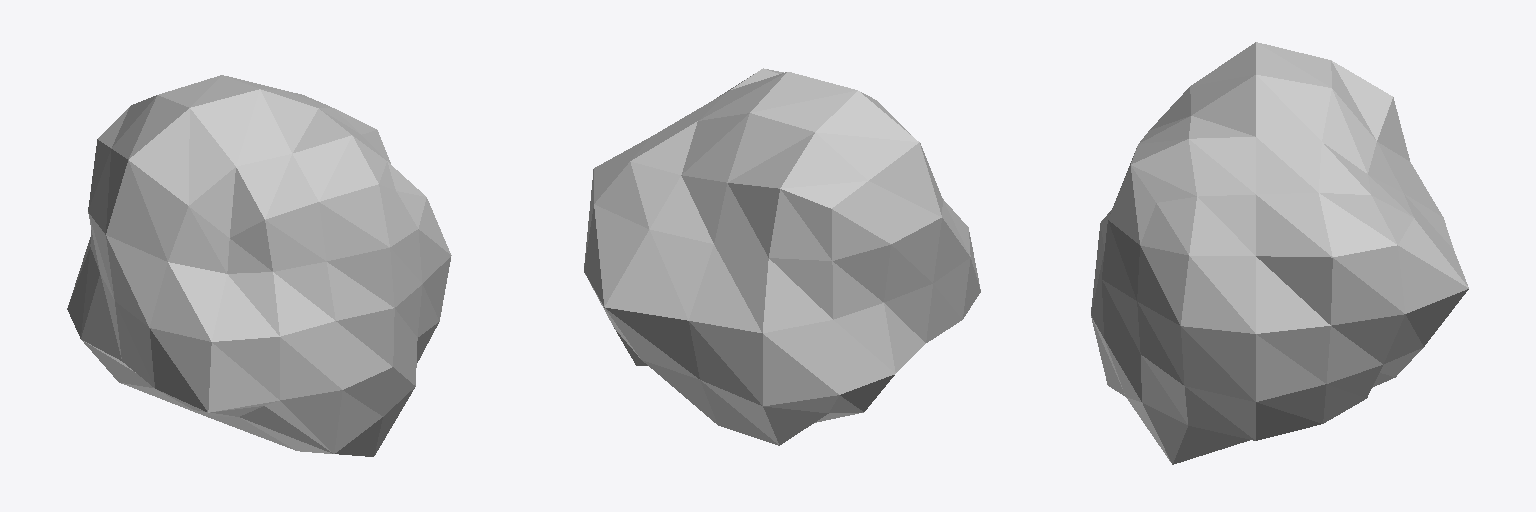
The model's file is Proc_clumpobj.obj.
3 renders of one model, left to right at view 1: azimuth 30°, elevation 25°; view 2: azimuth 150°, elevation 25°; view 3: azimuth 270°, elevation 25°, orthographic.
Parts seen in each view (by area): view 1: Cube.008; view 2: Cube.008; view 3: Cube.008.
Boxes of the visible parts, <box> form: Cube.008: <box>67,75,451,456</box>; Cube.008: <box>584,68,980,445</box>; Cube.008: <box>1091,42,1468,464</box>.
Bounding box in the file's own units: 5.27 × 5.51 × 5.33.